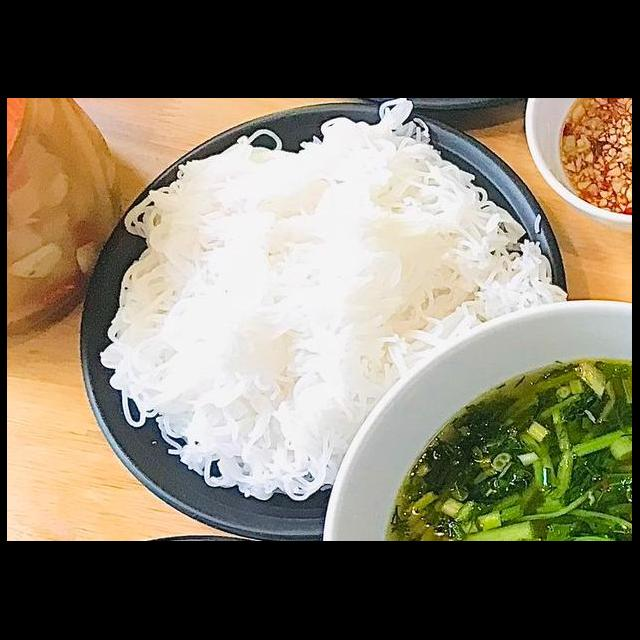bun: (80, 100, 570, 510)
